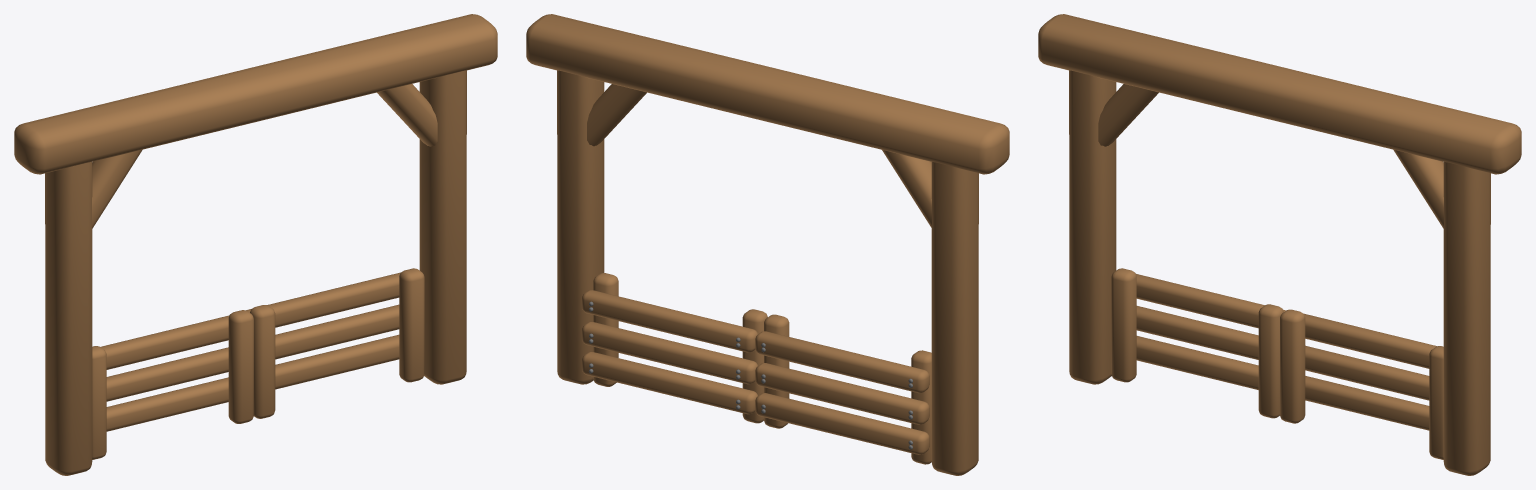
File: Door2.fbx
The picture shows the model from 3 angles, left to right: view 1: azimuth 30°, elevation 25°; view 2: azimuth 150°, elevation 25°; view 3: azimuth 330°, elevation 25°; orthographic projection.
Visible parts, largest first — view 1: Cube.023, Cube.031, Cube.032; view 2: Cube.023, Cube.032, Cube.031; view 3: Cube.023, Cube.032, Cube.031.
Part boxes in pixels (bbox=[...]): Cube.023: bbox=[14, 14, 497, 475]; Cube.031: bbox=[246, 268, 424, 418]; Cube.032: bbox=[92, 310, 253, 459]; Cube.023: bbox=[526, 14, 1009, 475]; Cube.032: bbox=[755, 314, 931, 464]; Cube.031: bbox=[582, 273, 767, 423]; Cube.023: bbox=[1038, 14, 1521, 475]; Cube.032: bbox=[1111, 268, 1286, 418]; Cube.031: bbox=[1280, 309, 1443, 459].
Bounding box in the file's own units: 11.79 × 1.43 × 8.43.
